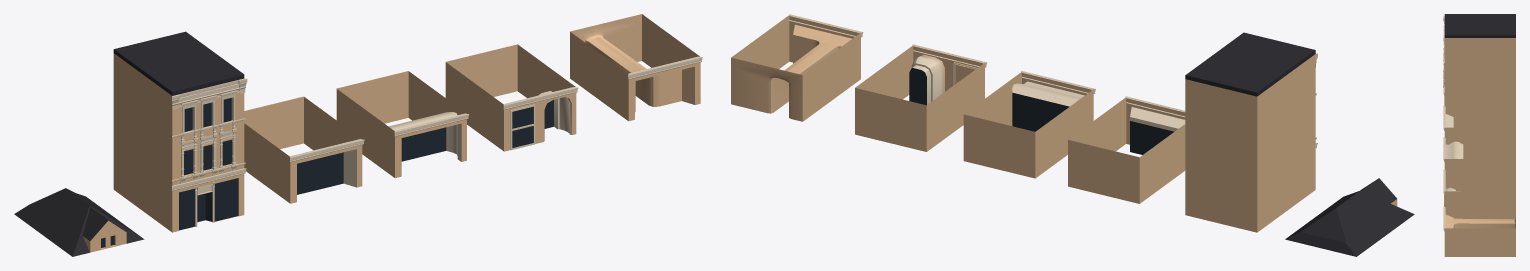
File: Building1.glb
The picture shows the model from 3 angles, left to right: view 1: azimuth 30°, elevation 25°; view 2: azimuth 150°, elevation 25°; view 3: azimuth 270°, elevation 25°; orthographic projection. The views are drawn at different scales.
Parts seen in each view (by area): view 1: B1_GF_04, B1_GF_03, B1_GF_01, B1_GF_02, B1_GF_00, B1_2ndF, B1_1stF, B1_Roof_flat, B1_Roof_angled; view 2: B1_GF_04, B1_GF_03, B1_GF_02, B1_GF_01, B1_GF_00, B1_2ndF, B1_1stF, B1_Roof_angled, B1_Roof_flat; view 3: B1_GF_04, B1_GF_03, B1_GF_02, B1_GF_01, B1_2ndF, B1_1stF, B1_Roof_flat, B1_GF_00.
Part boxes in pixels (x1,y1,x2,y2): B1_GF_04: [570, 14, 702, 121]; B1_GF_03: [445, 44, 578, 151]; B1_GF_01: [244, 96, 364, 203]; B1_GF_02: [336, 71, 469, 178]; B1_GF_00: [113, 143, 246, 232]; B1_2ndF: [113, 53, 247, 141]; B1_1stF: [113, 99, 245, 185]; B1_Roof_flat: [113, 31, 244, 95]; B1_Roof_angled: [14, 188, 144, 256]; B1_GF_04: [731, 14, 863, 121]; B1_GF_03: [855, 44, 987, 151]; B1_GF_02: [963, 70, 1095, 178]; B1_GF_01: [1068, 96, 1185, 203]; B1_GF_00: [1185, 142, 1317, 232]; B1_2ndF: [1185, 53, 1317, 141]; B1_1stF: [1185, 99, 1316, 185]; B1_Roof_angled: [1285, 178, 1414, 256]; B1_Roof_flat: [1185, 32, 1315, 96]; B1_GF_04: [1443, 206, 1515, 256]; B1_GF_03: [1443, 169, 1515, 206]; B1_GF_02: [1443, 137, 1515, 169]; B1_GF_01: [1443, 106, 1515, 137]; B1_2ndF: [1443, 16, 1515, 65]; B1_1stF: [1443, 48, 1515, 92]; B1_Roof_flat: [1444, 14, 1515, 37]; B1_GF_00: [1443, 72, 1515, 106].
Size of the model in its own units: 49.61 by 10.59 by 8.17.
